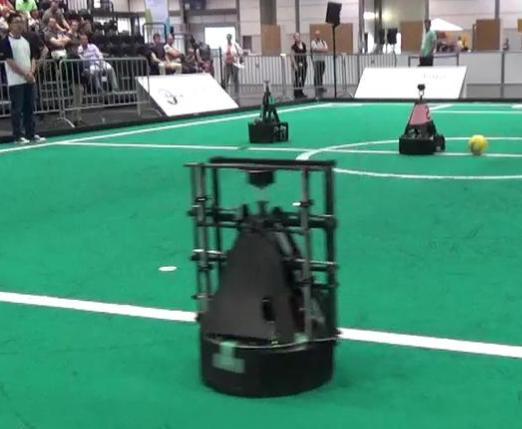robot: (187, 173, 339, 395), (395, 82, 447, 159), (243, 77, 295, 146)
